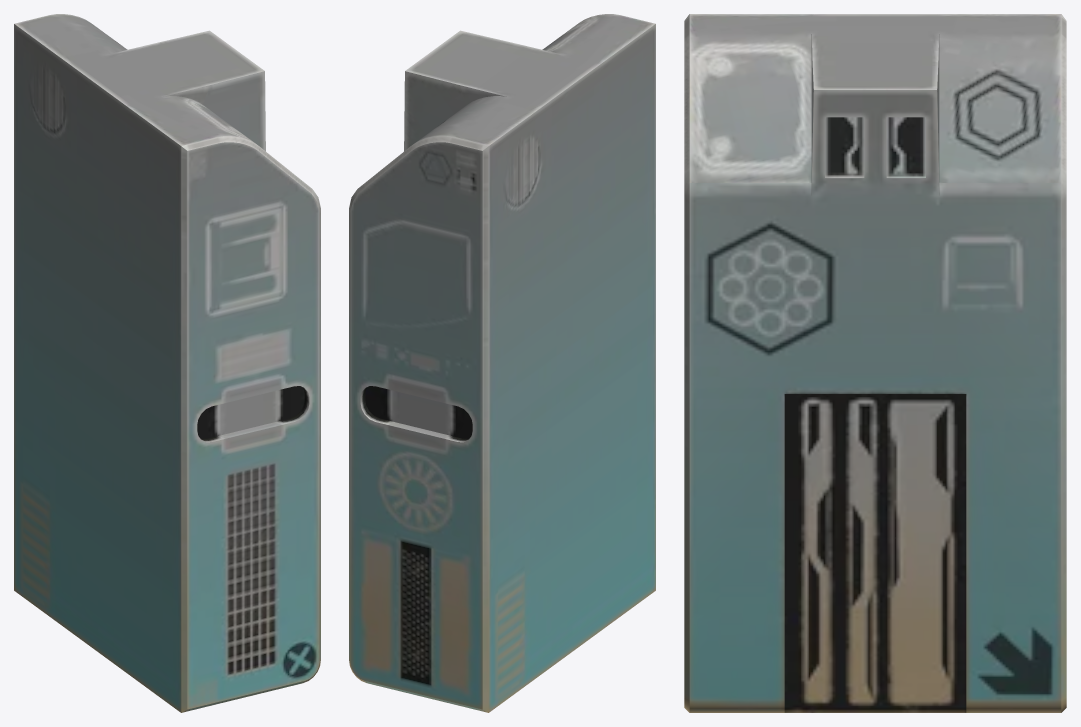
File: control-console.glb
3 views of the same model, side by side, from view 1: azimuth 30°, elevation 25°; view 2: azimuth 150°, elevation 25°; view 3: azimuth 270°, elevation 25° (orthographic). The views are drawn at different scales.
Parts seen in each view (by area): view 1: Terminal_low; view 2: Terminal_low; view 3: Terminal_low.
Boxes of the visible parts, box(x1,y1,x2,y2) form: Terminal_low: box(14, 14, 320, 712); Terminal_low: box(349, 14, 655, 712); Terminal_low: box(684, 14, 1066, 712).
Size of the model in its own units: 0.4644 by 1.8 by 0.9881.
Materials: 1 (1 with a texture image).
